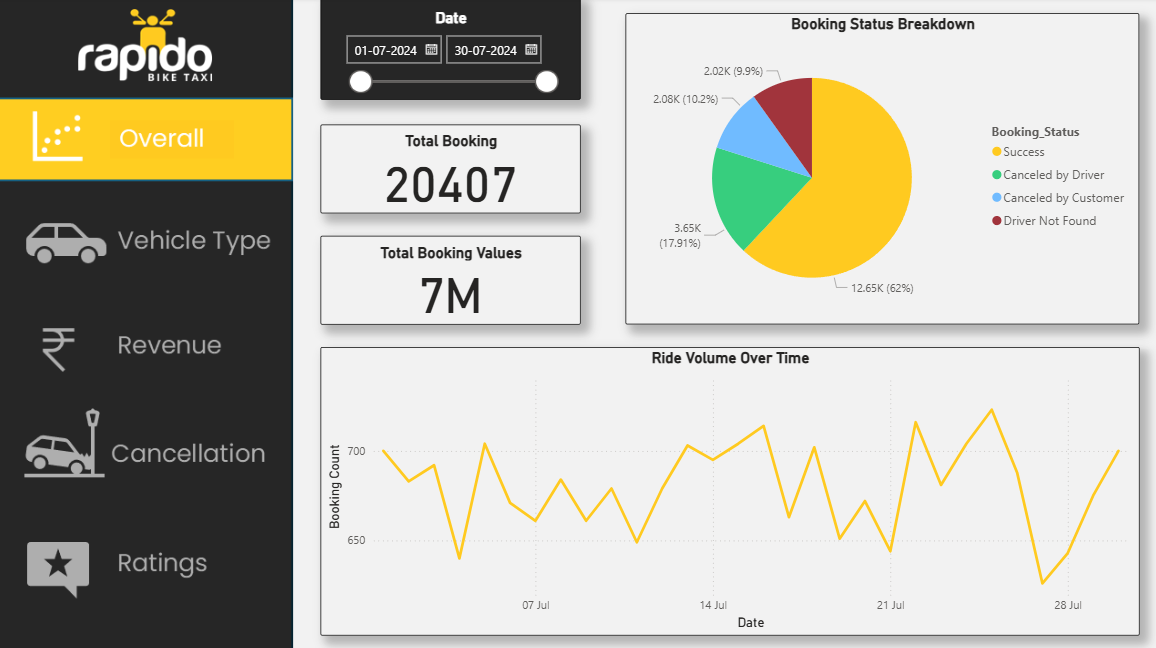

The page's visual inventory and layout, read from the dashboard file:
{"tool":"powerbi","page":{"name":"Overall","canvas":[1280,720],"ordinal":0},"visuals":[{"type":"actionButton","box":[0,218.9,326.1,97.1],"z":0},{"type":"actionButton","box":[0,335,326.1,97.1],"z":1000},{"type":"actionButton","box":[0,450,326.1,97.1],"z":2000},{"type":"actionButton","box":[0,575.1,326.1,97.1],"z":3000},{"type":"actionButton","box":[0,107.2,326.1,97.1],"z":4000},{"type":"lineChart","title":"Ride Volume Over Time","fields":{"Y":["CountNonNull(July.Booking_ID)"],"Category":["July.Date"]},"box":[354,384.2,898.8,317],"z":5000},{"type":"pieChart","title":"Booking Status Breakdown","fields":{"Category":["July.Booking_Status"],"Y":["CountNonNull(July.Booking_Status)"]},"box":[688.9,17.8,564,341.7],"z":6000},{"type":"slicer","title":"Date","fields":{"Values":["July.Date"]},"box":[354,0,285.4,112.5],"z":7000},{"type":"card","title":"Total Booking","fields":{"Values":["CountNonNull(July.Booking_ID)"]},"box":[354,140,285.4,97.4],"z":8000},{"type":"card","title":"Total Booking Values","fields":{"Values":["Sum(July.Booking_Value)"]},"box":[354,262.1,285.4,97.4],"z":9000}]}

Visuals, with their boxes in screenshot pixels (x1, y1, x2, y2), scaled from the page's 1280x720 canvas onto the 1156x648 screenshot:
actionButton: [left=0, top=197, right=295, bottom=284]
actionButton: [left=0, top=302, right=295, bottom=389]
actionButton: [left=0, top=405, right=295, bottom=492]
actionButton: [left=0, top=518, right=295, bottom=605]
actionButton: [left=0, top=96, right=295, bottom=184]
"Ride Volume Over Time" lineChart: [left=320, top=346, right=1131, bottom=631]
"Booking Status Breakdown" pieChart: [left=622, top=16, right=1132, bottom=324]
"Date" slicer: [left=320, top=0, right=577, bottom=101]
"Total Booking" card: [left=320, top=126, right=577, bottom=214]
"Total Booking Values" card: [left=320, top=236, right=577, bottom=324]
